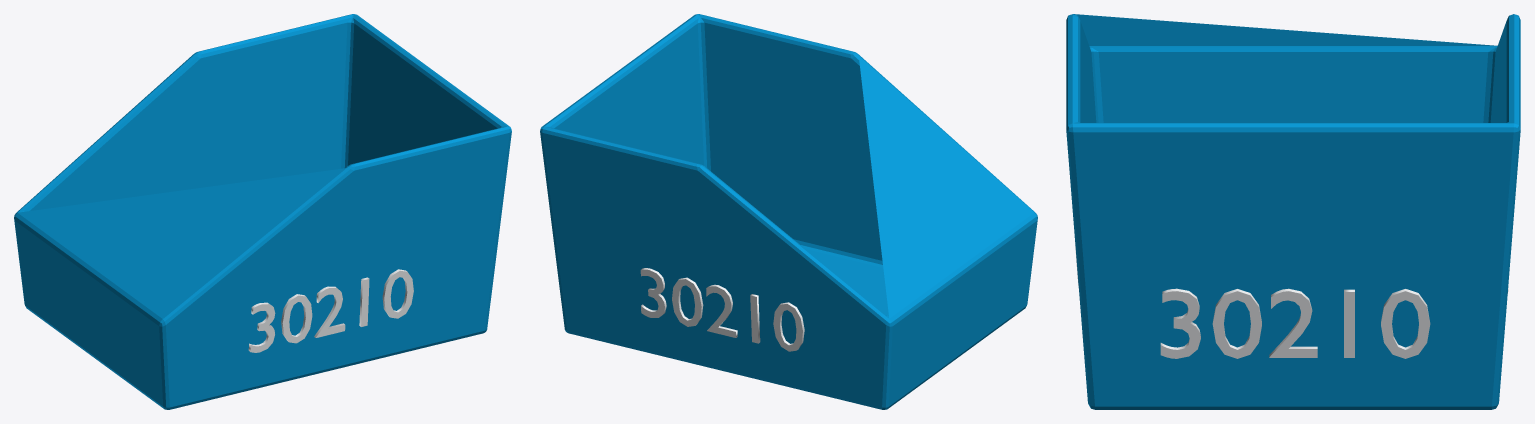
The picture shows the model from 3 angles, left to right: view 1: azimuth 30°, elevation 25°; view 2: azimuth 150°, elevation 25°; view 3: azimuth 270°, elevation 25°; orthographic projection. The views are drawn at different scales.
Parts seen in each view (by area): view 1: us-picking-bin-30210; view 2: us-picking-bin-30210; view 3: us-picking-bin-30210.
Part boxes in pixels (x1=…): us-picking-bin-30210: x1=14, y1=14, x2=511, y2=409; us-picking-bin-30210: x1=540, y1=14, x2=1037, y2=409; us-picking-bin-30210: x1=1066, y1=14, x2=1520, y2=409.
Size of the model in its own units: 0.1329 by 0.076 by 0.1048.
